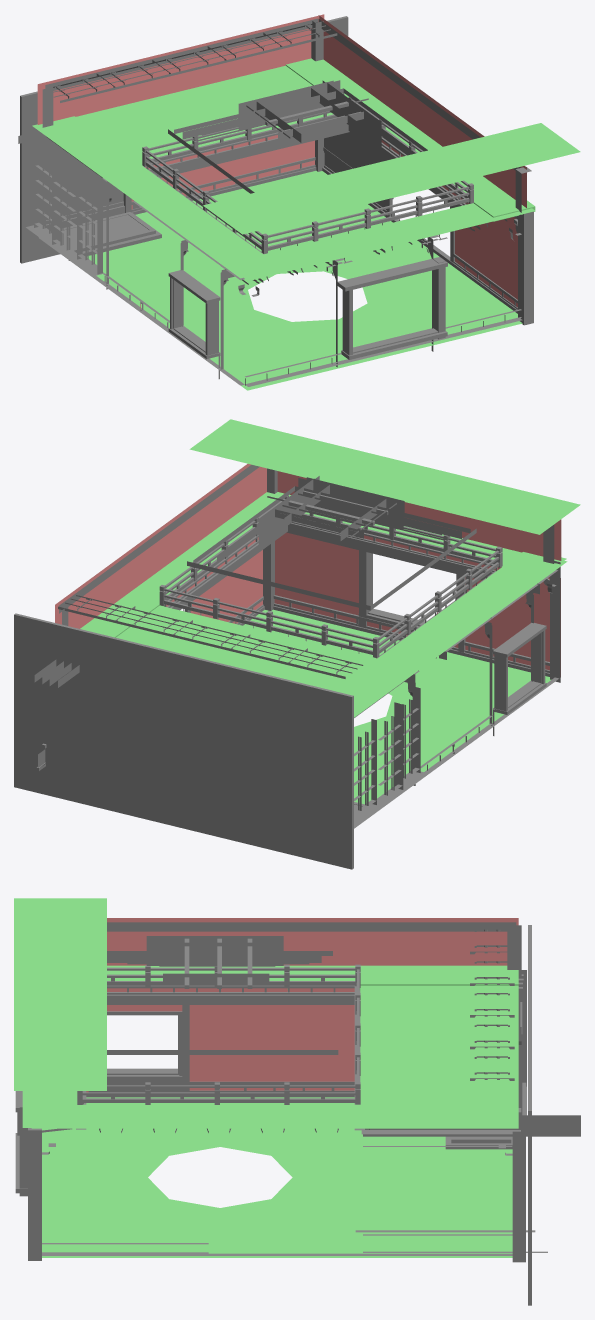
Rendered from S_Envi_Umeda_Building_012b.gltf.
The picture shows the model from 3 angles, top to bottom: view 1: azimuth 30°, elevation 25°; view 2: azimuth 150°, elevation 25°; view 3: azimuth 270°, elevation 25°; orthographic projection. The views are drawn at different scales.
Visible parts, largest first — view 1: S_Envi_Umeda_Building_012b; view 2: S_Envi_Umeda_Building_012b; view 3: S_Envi_Umeda_Building_012b.
Part boxes in pixels (x1,y1,x2,y2): S_Envi_Umeda_Building_012b: (18, 14, 580, 390); S_Envi_Umeda_Building_012b: (14, 419, 580, 869); S_Envi_Umeda_Building_012b: (14, 898, 580, 1305).
Bounding box in the file's own units: 17.23 × 10.2 × 20.81.
